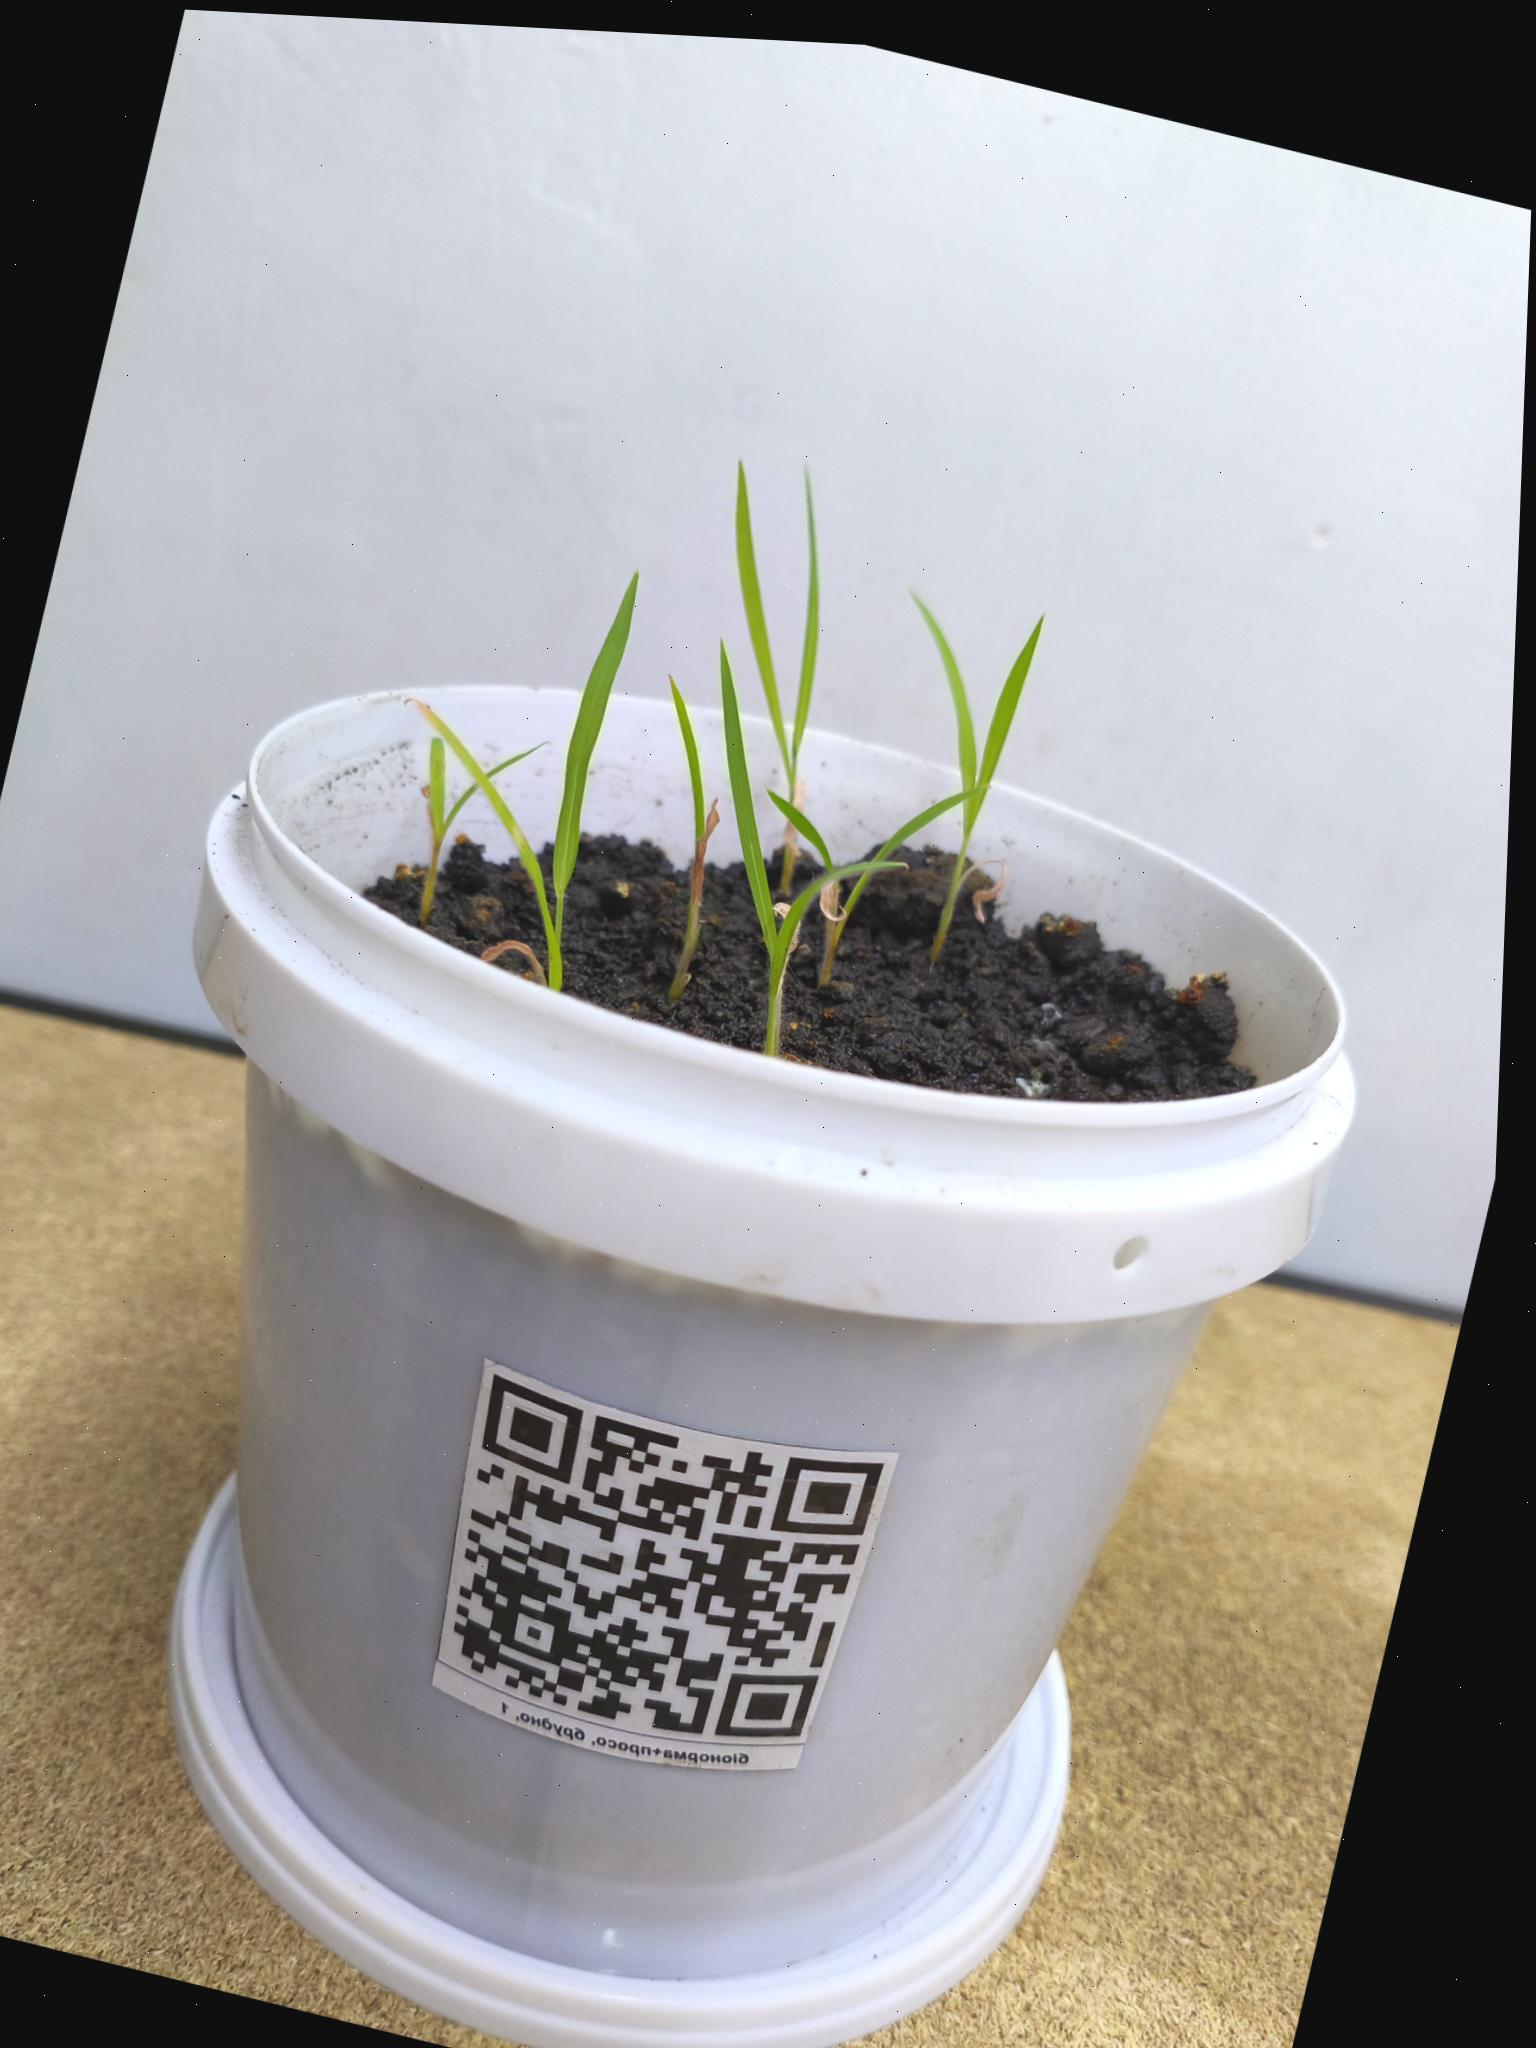container: (169, 685, 1354, 2048)
stem: (928, 835, 970, 964), (666, 858, 703, 998), (776, 790, 803, 892), (418, 843, 442, 919), (547, 892, 565, 990), (816, 914, 837, 987), (763, 997, 779, 1055)
